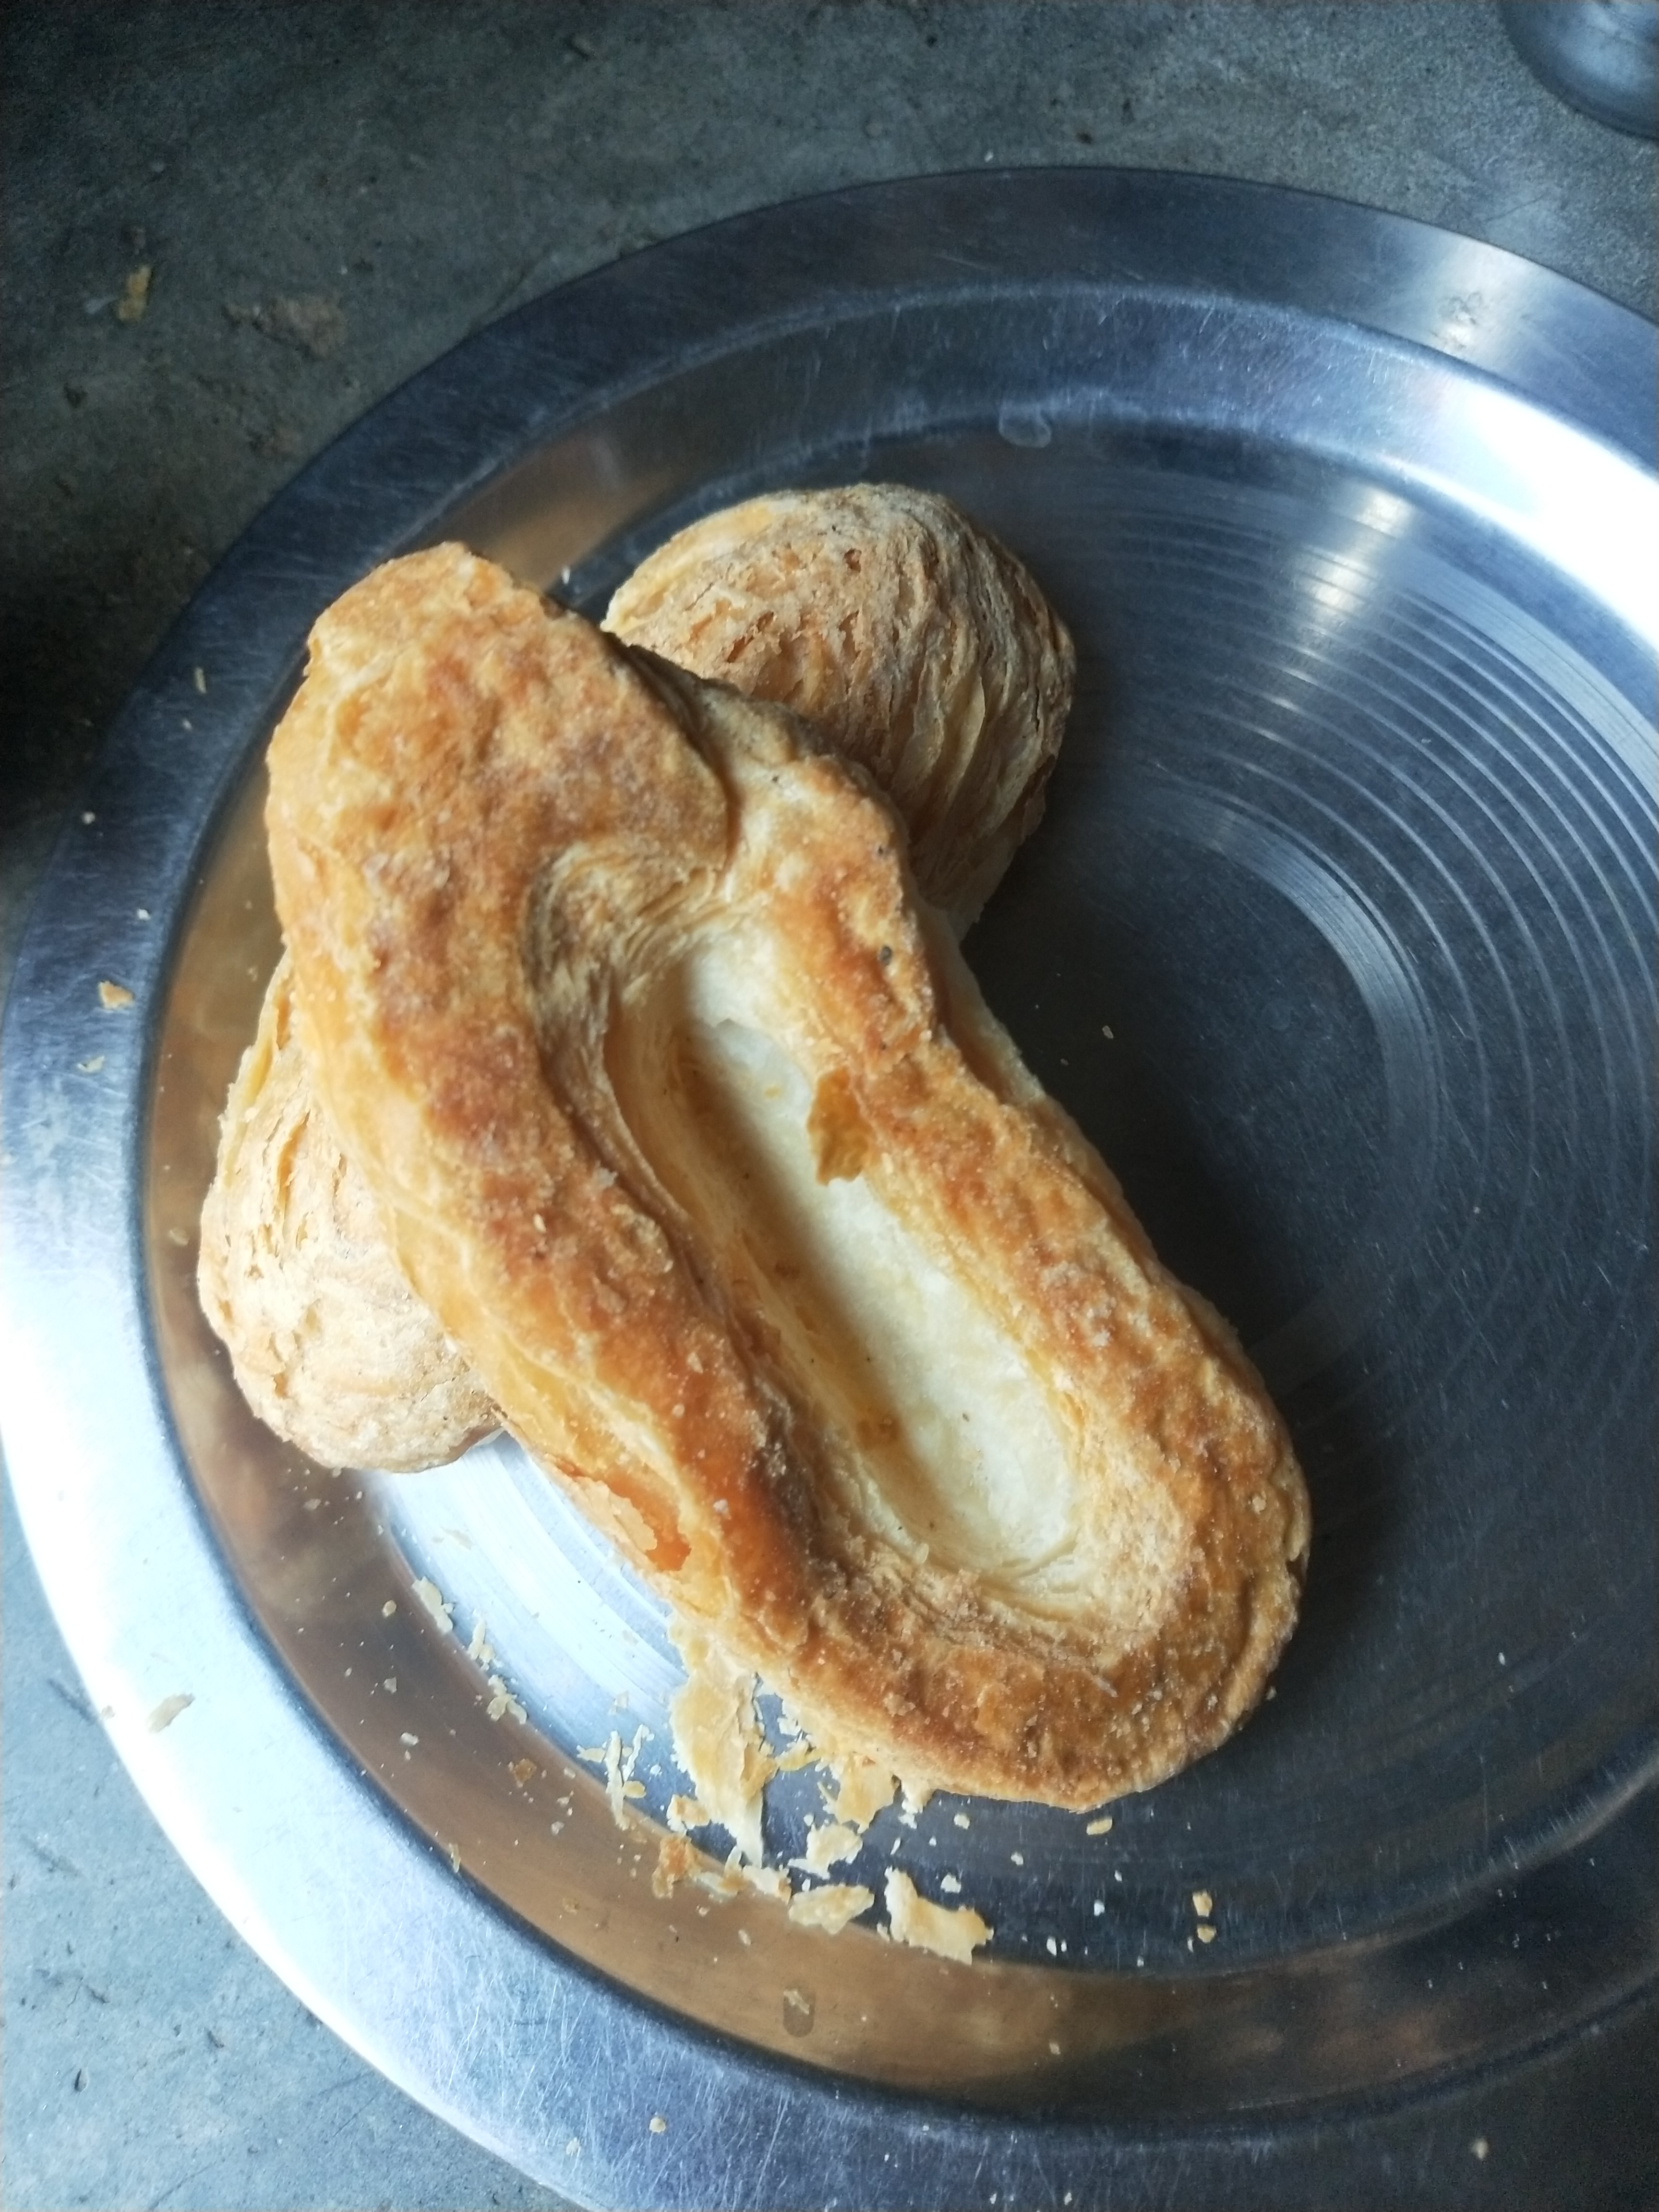food: (183, 463, 1326, 1977)
